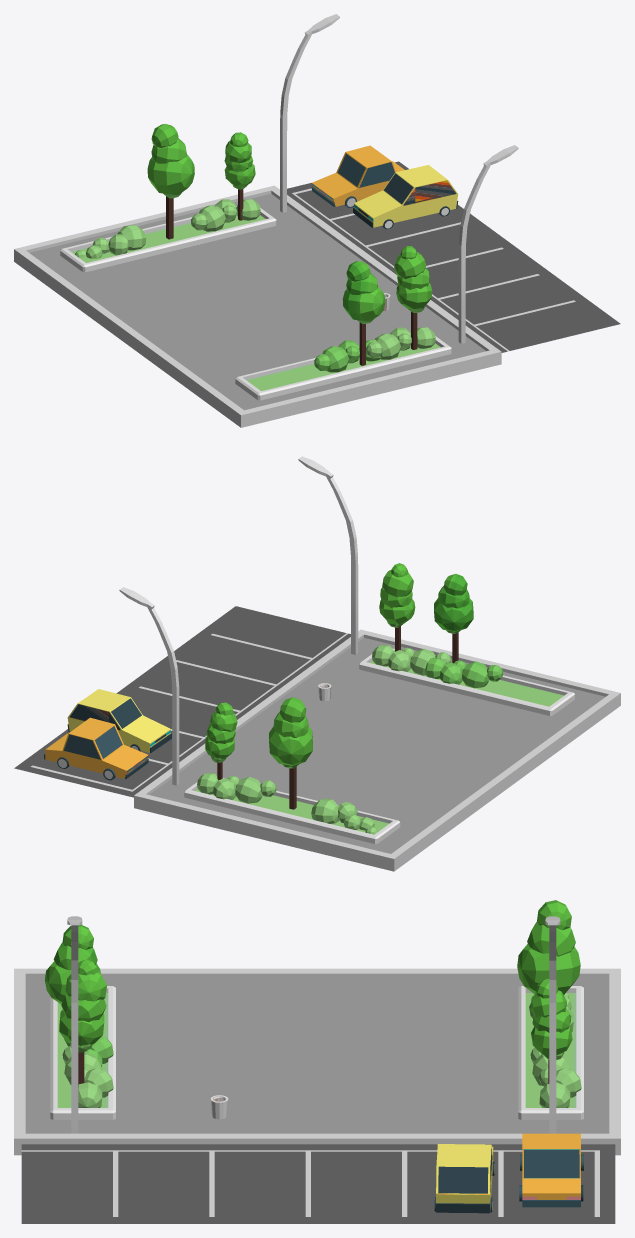
Rendered from OutsideEnvironment.glb.
The picture shows the model from 3 angles, top to bottom: view 1: azimuth 30°, elevation 25°; view 2: azimuth 150°, elevation 25°; view 3: azimuth 270°, elevation 25°; orthographic projection. The views are drawn at different scales.
Visible parts, largest first — view 1: Floor.4_3, Floor_3, CAR_03, Bed_3, Bed_2, Car_04, Tree:2, Tree:2_1, Tree:1_1, Light.3_3, Light.2_3, Tree:1 (+4 smaller); view 2: Floor.4_3, Floor_3, Car_04, Bed_3, Bed_2, CAR_03, Tree:2, Tree:2_1, Tree:1_1, Light.2_3, Light.3_3, Bushes.2 (+4 smaller); view 3: Floor.4_3, Floor_3, Car_04, Bed_2, CAR_03, Tree:2, Bed_3, Tree:1_1, Tree:1, Tree:2_1, Light.2_3, Light.3_3 (+3 smaller).
Boxes of the visible parts, bbox=[...] form: Floor.4_3: bbox=[14, 185, 501, 427]; Floor_3: bbox=[287, 161, 620, 352]; CAR_03: bbox=[353, 165, 458, 229]; Bed_3: bbox=[235, 336, 451, 400]; Bed_2: bbox=[60, 206, 276, 272]; Car_04: bbox=[311, 145, 404, 207]; Tree:2: bbox=[147, 124, 194, 239]; Tree:2_1: bbox=[342, 261, 385, 365]; Tree:1_1: bbox=[394, 246, 432, 349]; Light.3_3: bbox=[458, 145, 518, 343]; Light.2_3: bbox=[280, 14, 339, 212]; Tree:1: bbox=[224, 132, 255, 220]; Floor.4_3: bbox=[134, 629, 620, 871]; Floor_3: bbox=[14, 606, 350, 797]; Car_04: bbox=[44, 717, 148, 780]; Bed_3: bbox=[359, 648, 574, 715]; Bed_2: bbox=[184, 778, 400, 843]; CAR_03: bbox=[67, 689, 171, 752]; Tree:2: bbox=[269, 697, 312, 809]; Tree:2_1: bbox=[434, 574, 473, 663]; Tree:1_1: bbox=[379, 563, 415, 651]; Light.2_3: bbox=[119, 587, 179, 785]; Light.3_3: bbox=[298, 456, 358, 654]; Bushes.2: bbox=[197, 772, 276, 803]; Floor.4_3: bbox=[14, 968, 620, 1155]; Floor_3: bbox=[21, 1144, 615, 1223]; Car_04: bbox=[519, 1133, 583, 1207]; Bed_2: bbox=[518, 986, 583, 1119]; CAR_03: bbox=[434, 1144, 494, 1213]; Tree:2: bbox=[517, 900, 580, 994]; Bed_3: bbox=[50, 986, 115, 1119]; Tree:1_1: bbox=[59, 959, 106, 1084]; Tree:1: bbox=[530, 978, 572, 1083]; Tree:2_1: bbox=[44, 924, 100, 1045]; Light.2_3: bbox=[545, 916, 560, 1133]; Light.3_3: bbox=[67, 916, 82, 1133].
Size of the model in its own units: 32.95 by 16.14 by 33.86.
1 material, 1 textured.
